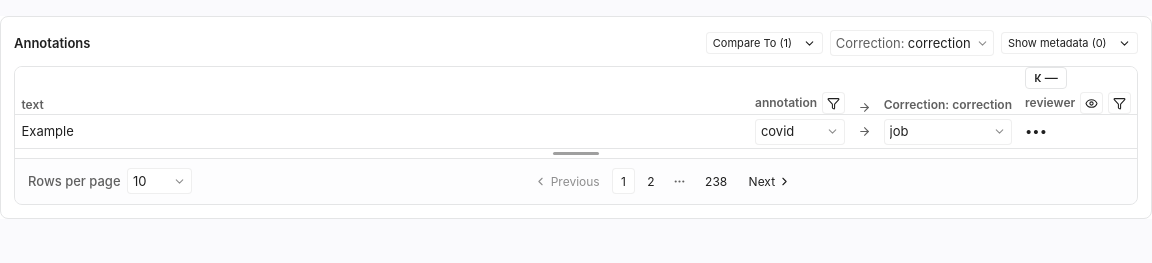
it: AnnotationResultsPanel › preserves whitespace-padded raw values without marking valid trimmed labels invalid
Expected: the dropdown named "Correction for row 1" reads "job", [884,118,1012,144]
Click the dropdown named "Class for row 1" at (800, 132), box [755,118,845,144]
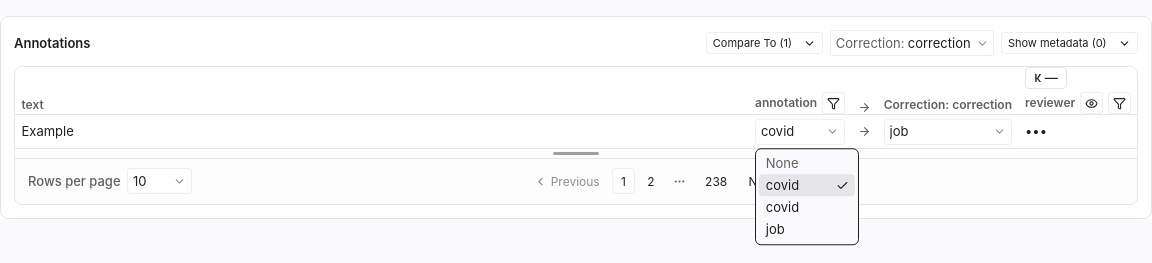
Result: the number of options "covid" is 2 at [759,174,855,196]; [766,199,799,215]
